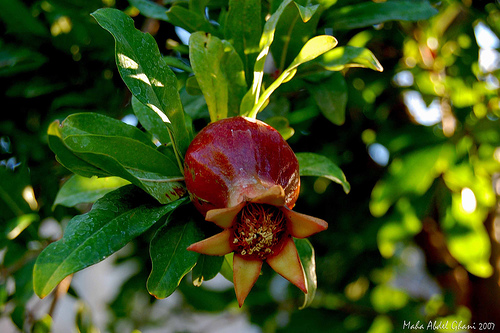pomogranate: (180, 115, 330, 310)
